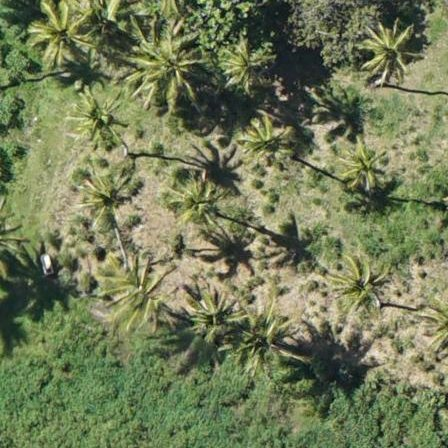palm_tree: (24, 1, 98, 73), (131, 37, 201, 109), (107, 267, 177, 327), (181, 285, 243, 348), (236, 118, 298, 171), (341, 135, 394, 196), (73, 173, 134, 225), (360, 21, 414, 78), (67, 92, 126, 143), (169, 174, 225, 227), (334, 259, 389, 309), (219, 41, 273, 89)
